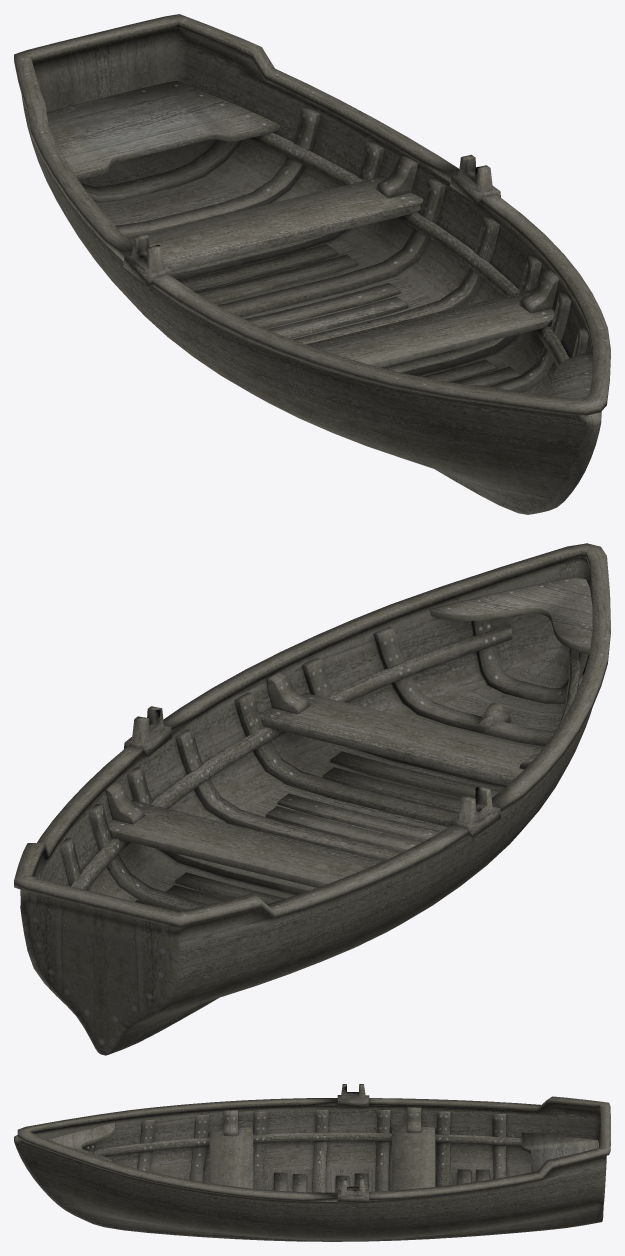
The model's file is boatNoPaddls.glb.
3 renders of one model, top to bottom at view 1: azimuth 30°, elevation 25°; view 2: azimuth 150°, elevation 25°; view 3: azimuth 270°, elevation 25°, orthographic. The views are drawn at different scales.
Parts seen in each view (by area): view 1: Cube.003_low.001, Cube.025_low.001, Cube.019_low.001, Cube.027_low.001, Cube.013_low.001, Cube.014_low.001, Cube.008_low.001, Cube.009_low.001, Cube.030_low.001, Cube.007_low.001, Cube.006_low.001, Cube.002_low.001 (+1 smaller); view 2: Cube.003_low.001, Cube.025_low.001, Cube.019_low.001, Cube.027_low.001, Cube.014_low.001, Cube.004_low.001, Cube.030_low.001, Cube.001_low.001, Cube.005_low.001, Cube.002_low.001, Cube.008_low.001; view 3: Cube.003_low.001, Cube.025_low.001, Cube.019_low.001, Cube.027_low.001, Cube.014_low.001, Cube.030_low.001, Cube.004_low.001, Cube.005_low.001.
Part boxes in pixels (<box>): Cube.003_low.001: <box>14,14,610,514</box>; Cube.025_low.001: <box>46,81,592,398</box>; Cube.019_low.001: <box>115,106,588,392</box>; Cube.027_low.001: <box>250,132,568,366</box>; Cube.013_low.001: <box>80,139,241,202</box>; Cube.014_low.001: <box>381,254,541,375</box>; Cube.008_low.001: <box>195,254,357,302</box>; Cube.009_low.001: <box>178,244,337,290</box>; Cube.030_low.001: <box>376,154,559,313</box>; Cube.007_low.001: <box>245,283,400,328</box>; Cube.006_low.001: <box>267,296,407,338</box>; Cube.002_low.001: <box>421,359,496,382</box>; Cube.003_low.001: <box>14,543,610,1055</box>; Cube.025_low.001: <box>108,577,592,887</box>; Cube.019_low.001: <box>60,619,588,911</box>; Cube.027_low.001: <box>71,624,579,890</box>; Cube.014_low.001: <box>235,692,459,826</box>; Cube.004_low.001: <box>277,793,441,841</box>; Cube.030_low.001: <box>105,671,543,824</box>; Cube.001_low.001: <box>330,751,500,798</box>; Cube.005_low.001: <box>266,806,421,851</box>; Cube.002_low.001: <box>323,767,460,811</box>; Cube.008_low.001: <box>175,872,285,904</box>; Cube.003_low.001: <box>14,1084,610,1241</box>; Cube.025_low.001: <box>49,1122,598,1190</box>; Cube.019_low.001: <box>82,1109,506,1192</box>; Cube.027_low.001: <box>88,1132,521,1156</box>; Cube.014_low.001: <box>253,1111,267,1189</box>; Cube.030_low.001: <box>224,1107,421,1135</box>; Cube.004_low.001: <box>274,1172,287,1191</box>; Cube.005_low.001: <box>293,1174,306,1192</box>.
Bounding box in the file's own units: 273 × 143 × 672.
1 material, 1 textured.
